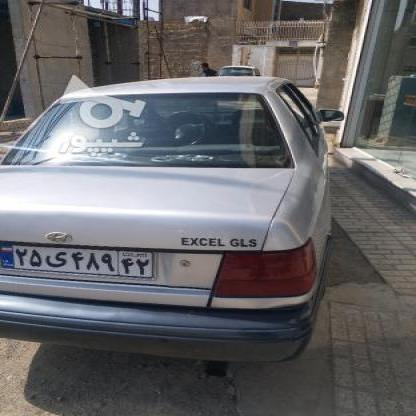licence: (0, 242, 157, 278)
